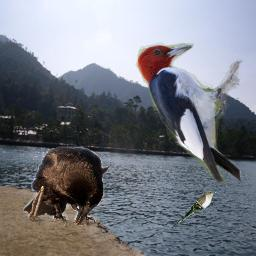Crow: (22, 146, 111, 226)
Cuckoo: (171, 190, 218, 230)
Woodpecker: (134, 39, 247, 187)
